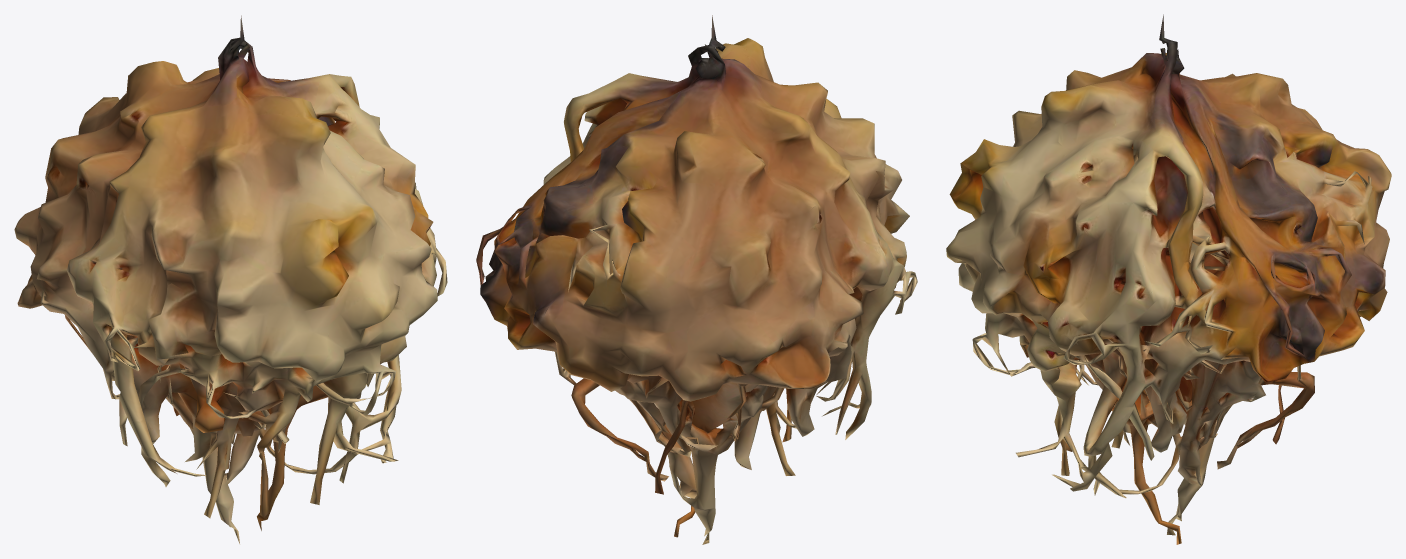
File: fungal_cocoon.glb
3 renders of one model, left to right at view 1: azimuth 30°, elevation 25°; view 2: azimuth 150°, elevation 25°; view 3: azimuth 270°, elevation 25°, orthographic. The views are drawn at different scales.
Parts seen in each view (by area): view 1: tripo_node_8ada5976-5a3d-4ad0-bd99-616d178be60f; view 2: tripo_node_8ada5976-5a3d-4ad0-bd99-616d178be60f; view 3: tripo_node_8ada5976-5a3d-4ad0-bd99-616d178be60f.
Boxes of the visible parts, left/top/right/bottom form: tripo_node_8ada5976-5a3d-4ad0-bd99-616d178be60f: left=14, top=15, right=447, bottom=543; tripo_node_8ada5976-5a3d-4ad0-bd99-616d178be60f: left=476, top=15, right=917, bottom=544; tripo_node_8ada5976-5a3d-4ad0-bd99-616d178be60f: left=946, top=14, right=1391, bottom=544.
Bounding box in the file's own units: 0.351 × 0.5 × 0.388.
1 material, 1 textured.
